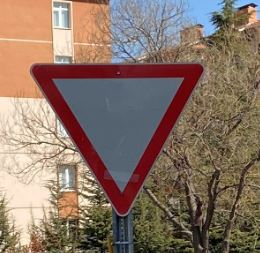Yol Ver: (31, 61, 204, 217)
